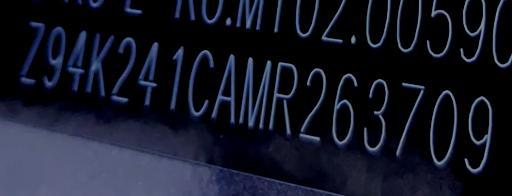letter: (460, 90, 502, 176), (232, 55, 276, 131), (264, 56, 302, 138), (391, 79, 431, 155), (182, 43, 220, 119), (296, 64, 332, 144), (12, 18, 52, 89), (428, 87, 464, 165), (328, 69, 362, 151), (206, 49, 242, 125), (80, 30, 120, 98), (360, 74, 394, 153), (108, 33, 140, 107), (133, 35, 165, 107), (38, 22, 70, 93), (60, 25, 92, 96), (162, 42, 192, 115)
